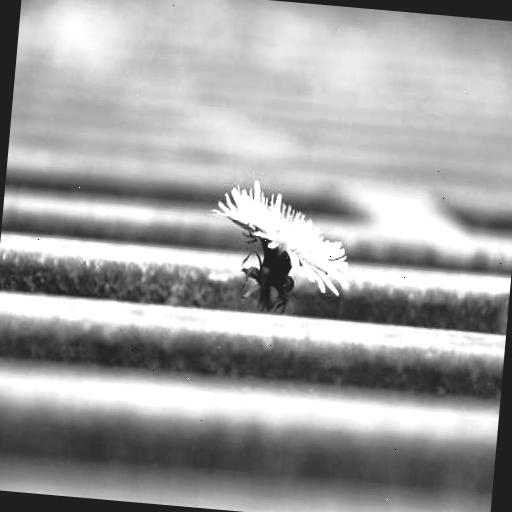dandelion: (210, 176, 352, 300)
